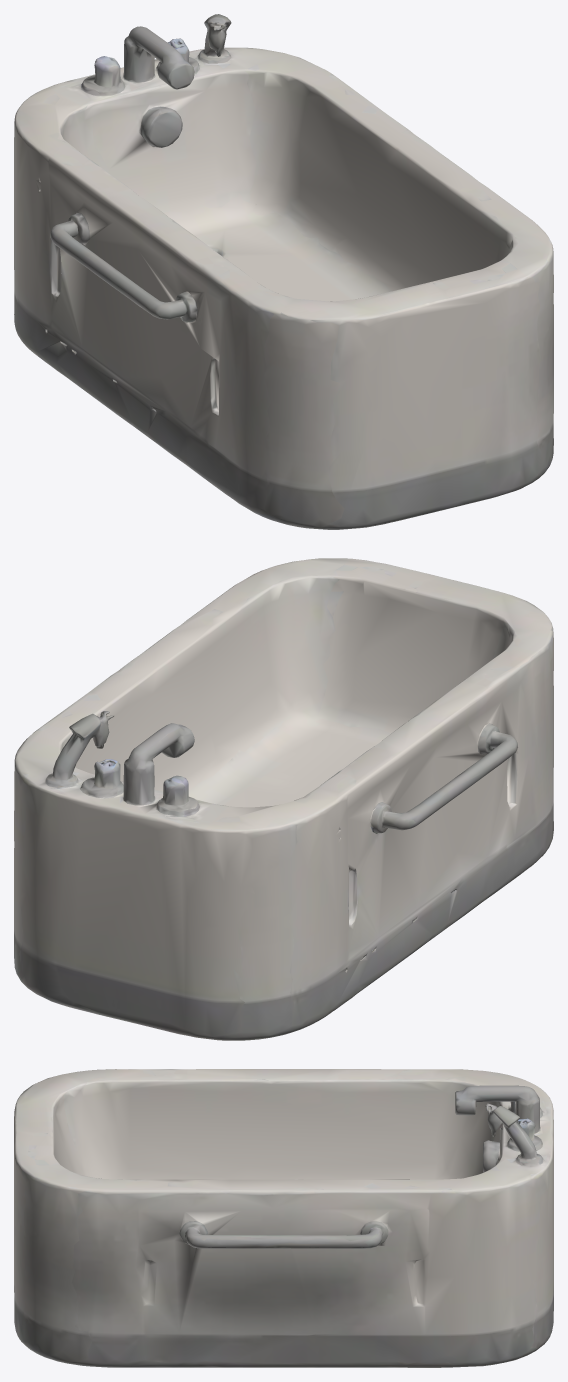
File: bathtub.glb
The picture shows the model from 3 angles, top to bottom: view 1: azimuth 30°, elevation 25°; view 2: azimuth 150°, elevation 25°; view 3: azimuth 270°, elevation 25°; orthographic projection. The views are drawn at different scales.
Parts seen in each view (by area): view 1: geometry_0; view 2: geometry_0; view 3: geometry_0.
Part boxes in pixels (x1=…): geometry_0: x1=14, y1=14, x2=553, y2=529; geometry_0: x1=14, y1=558, x2=553, y2=1040; geometry_0: x1=14, y1=1069, x2=553, y2=1367.
Bounding box in the file's own units: 0.662 × 0.47 × 1.
Materials: 1 (1 with a texture image).
